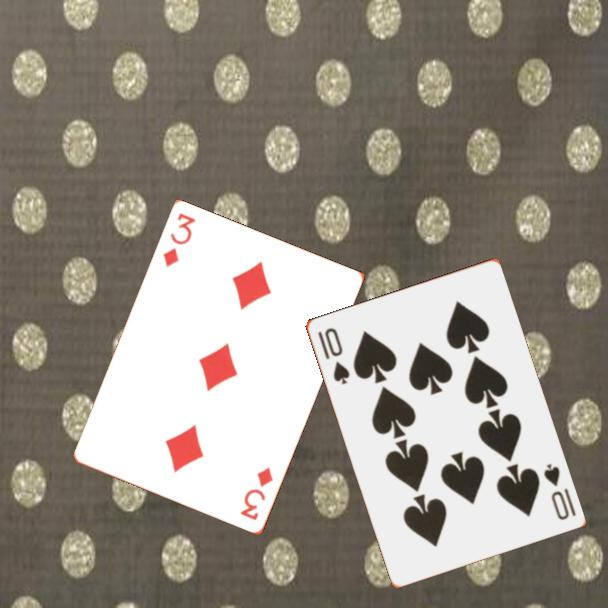d03: (237, 464, 276, 524), (160, 210, 198, 270)
s10: (314, 324, 352, 387), (540, 460, 578, 523)
